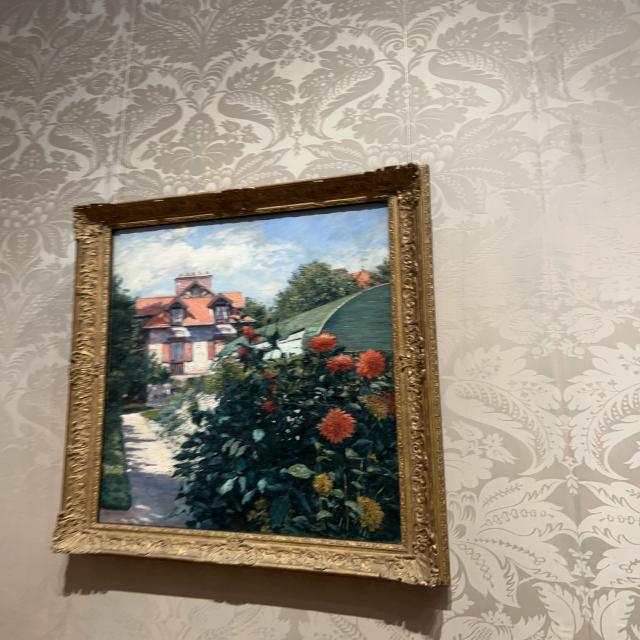summer: (100, 208, 399, 542)
